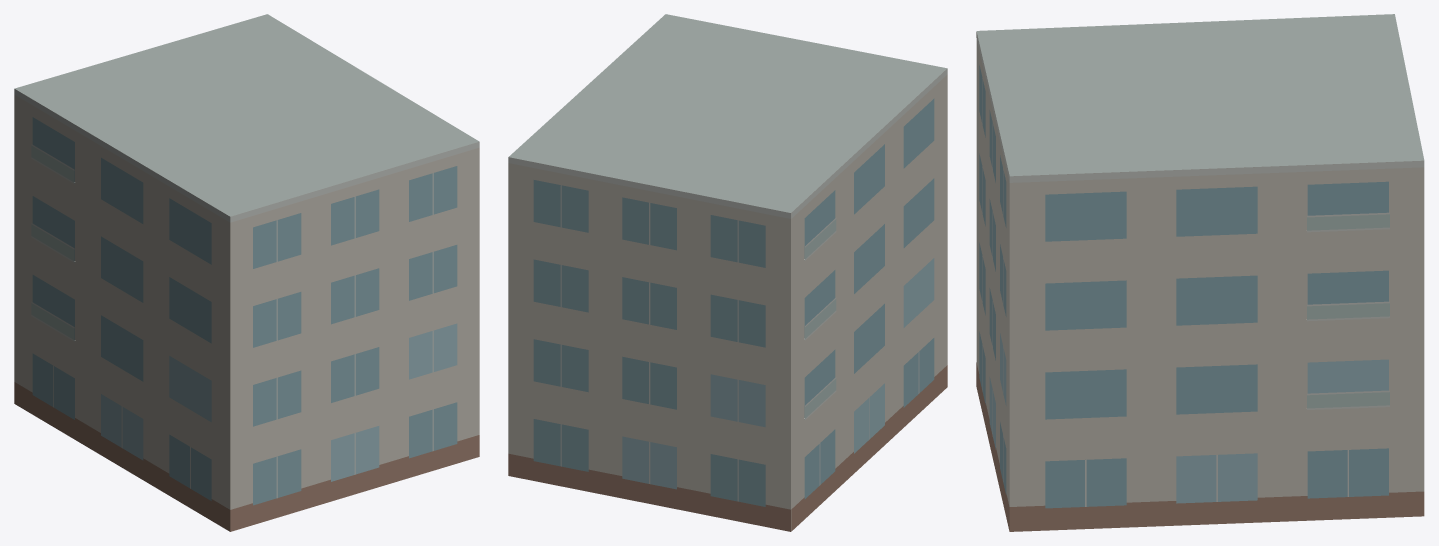
File: survey-upis-32633398.glb
3 renders of one model, left to right at view 1: azimuth 30°, elevation 25°; view 2: azimuth 150°, elevation 25°; view 3: azimuth 270°, elevation 25°, orthographic. The views are drawn at different scales.
Parts seen in each view (by area): view 1: survey-upis-32633398.tmp; view 2: survey-upis-32633398.tmp; view 3: survey-upis-32633398.tmp.
Part boxes in pixels (x1,y1,x2,y2): survey-upis-32633398.tmp: (14,14,479,531); survey-upis-32633398.tmp: (508,14,947,531); survey-upis-32633398.tmp: (976,14,1424,531).
Bounding box in the file's own units: 12.73 × 13 × 14.85.
